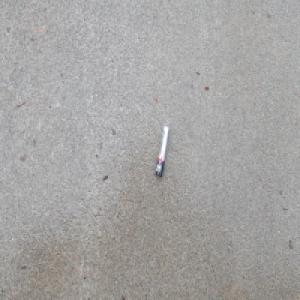Battery: (155, 124, 169, 178)
